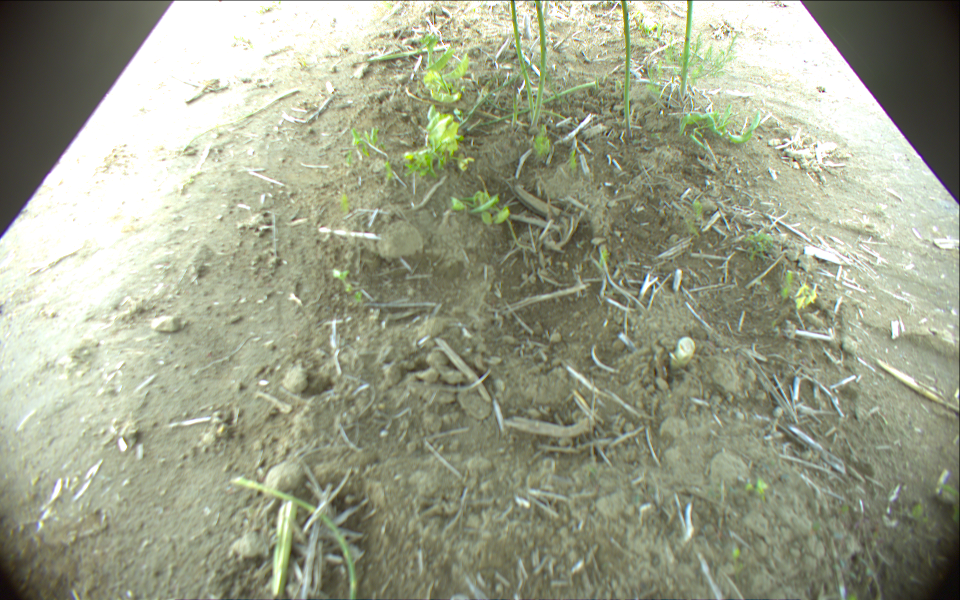aspa: (233, 477, 361, 600), (481, 79, 597, 126), (507, 1, 534, 111), (271, 500, 296, 597), (617, 1, 634, 134), (363, 42, 452, 64), (531, 1, 546, 127), (678, 1, 696, 99), (510, 80, 520, 127)
